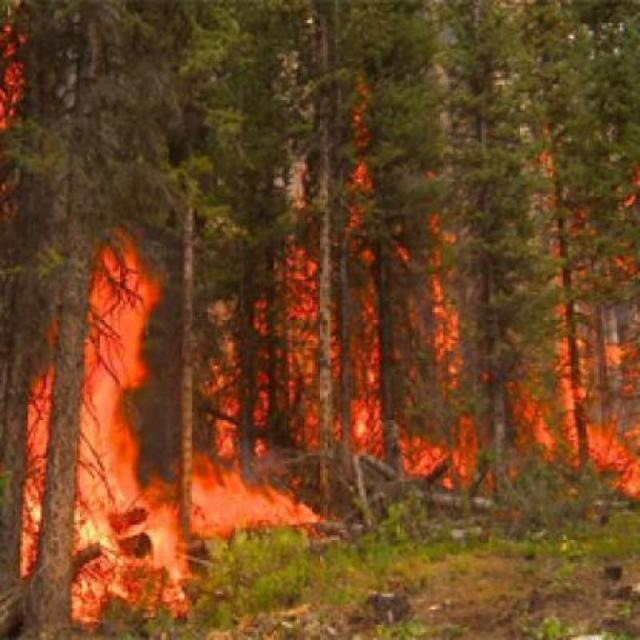Fire: (7, 276, 262, 619), (343, 236, 640, 487)
